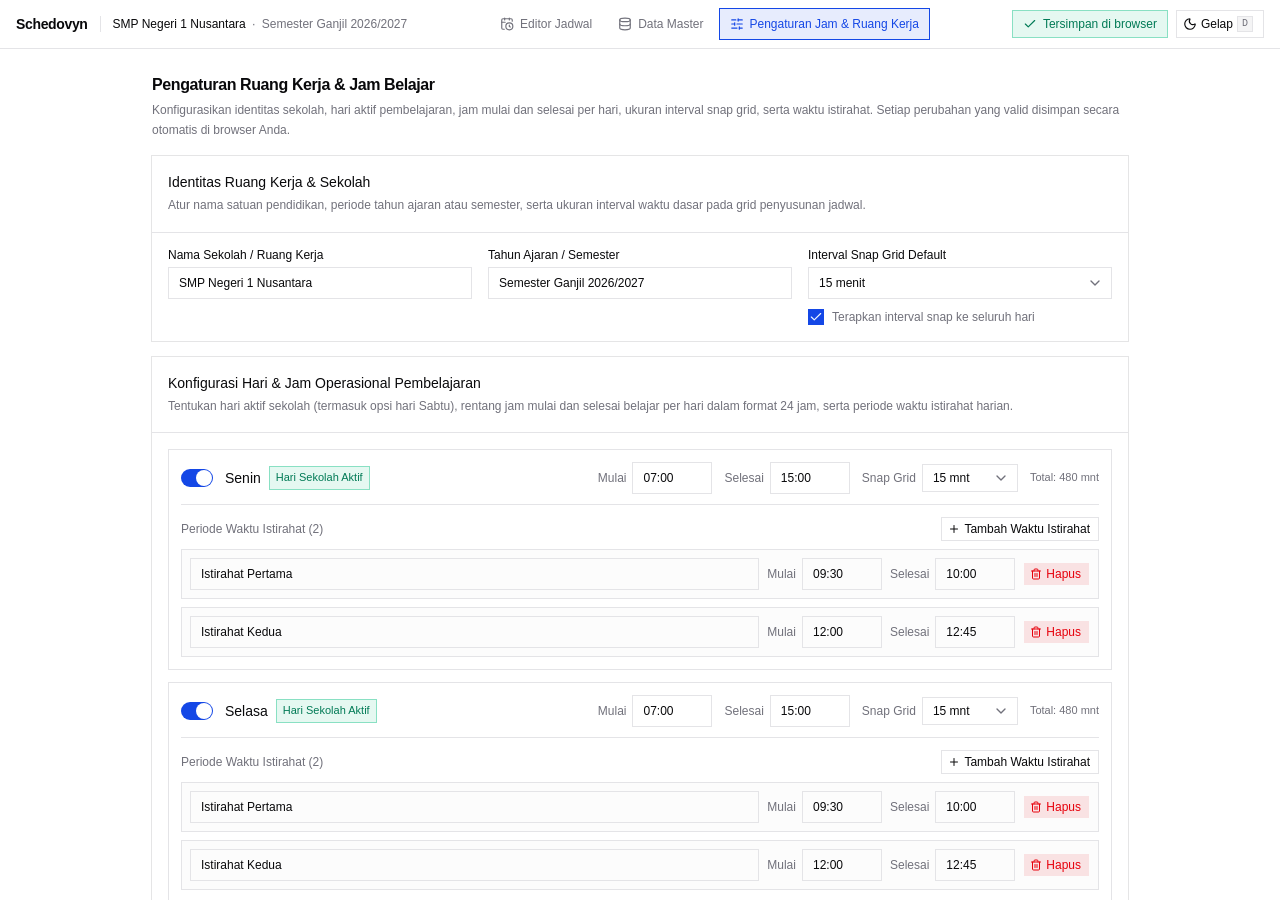
it: FR-01: Halaman Pengaturan Ruang Kerja & Jam Belajar (SettingsPage) › menambah periode istirahat baru dan menampilkan peringatan Bahasa Indonesia ketika rentang waktu tidak valid
Expected: the field showing "SMP Negeri 1 Nusantara" is shown, [168, 266, 472, 298]
Click the 1st button "Tambah Waktu Istirahat" at (1020, 529), box [941, 517, 1099, 541]
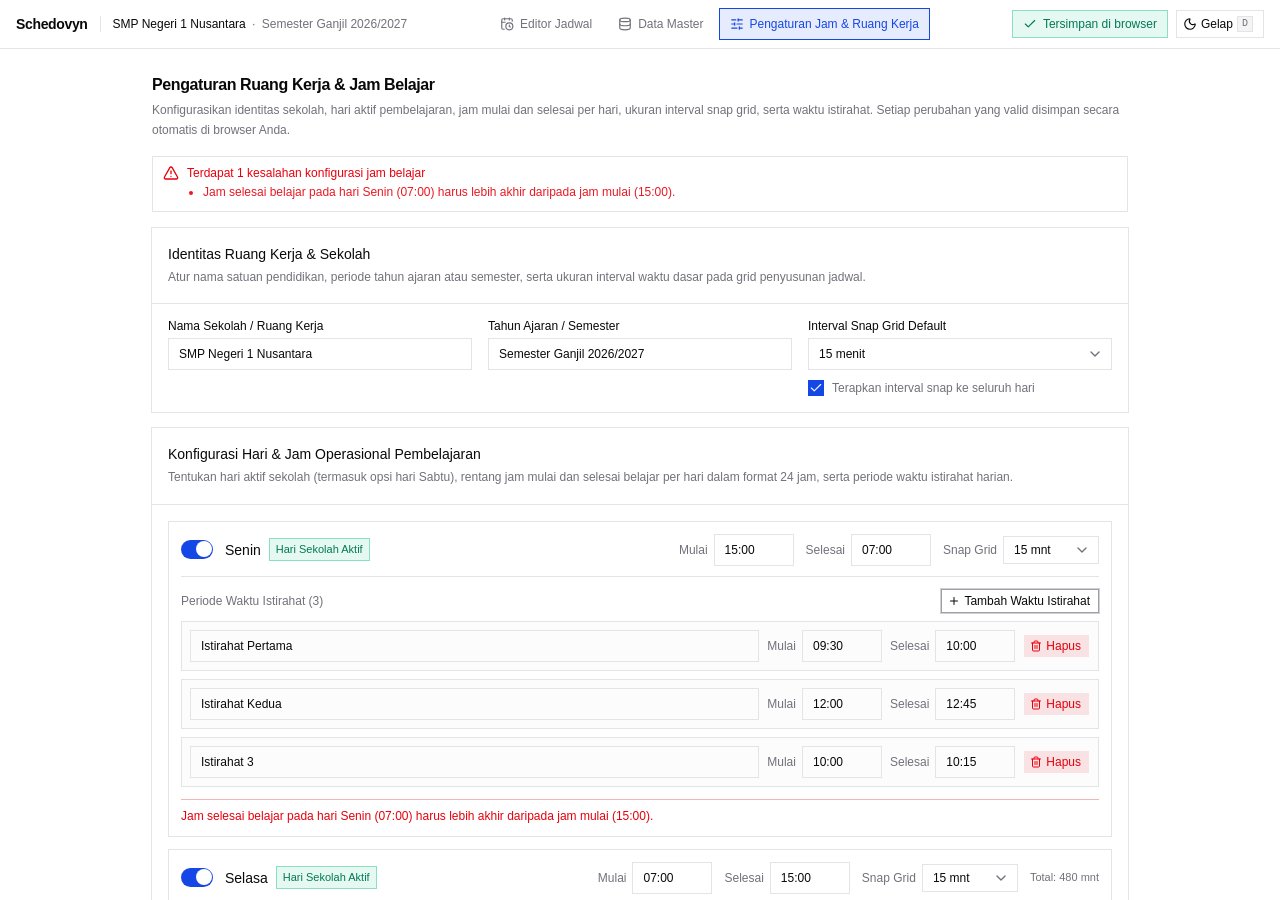
Expected: the message that starts with "Terdapat" is shown, [152, 156, 1128, 212]
